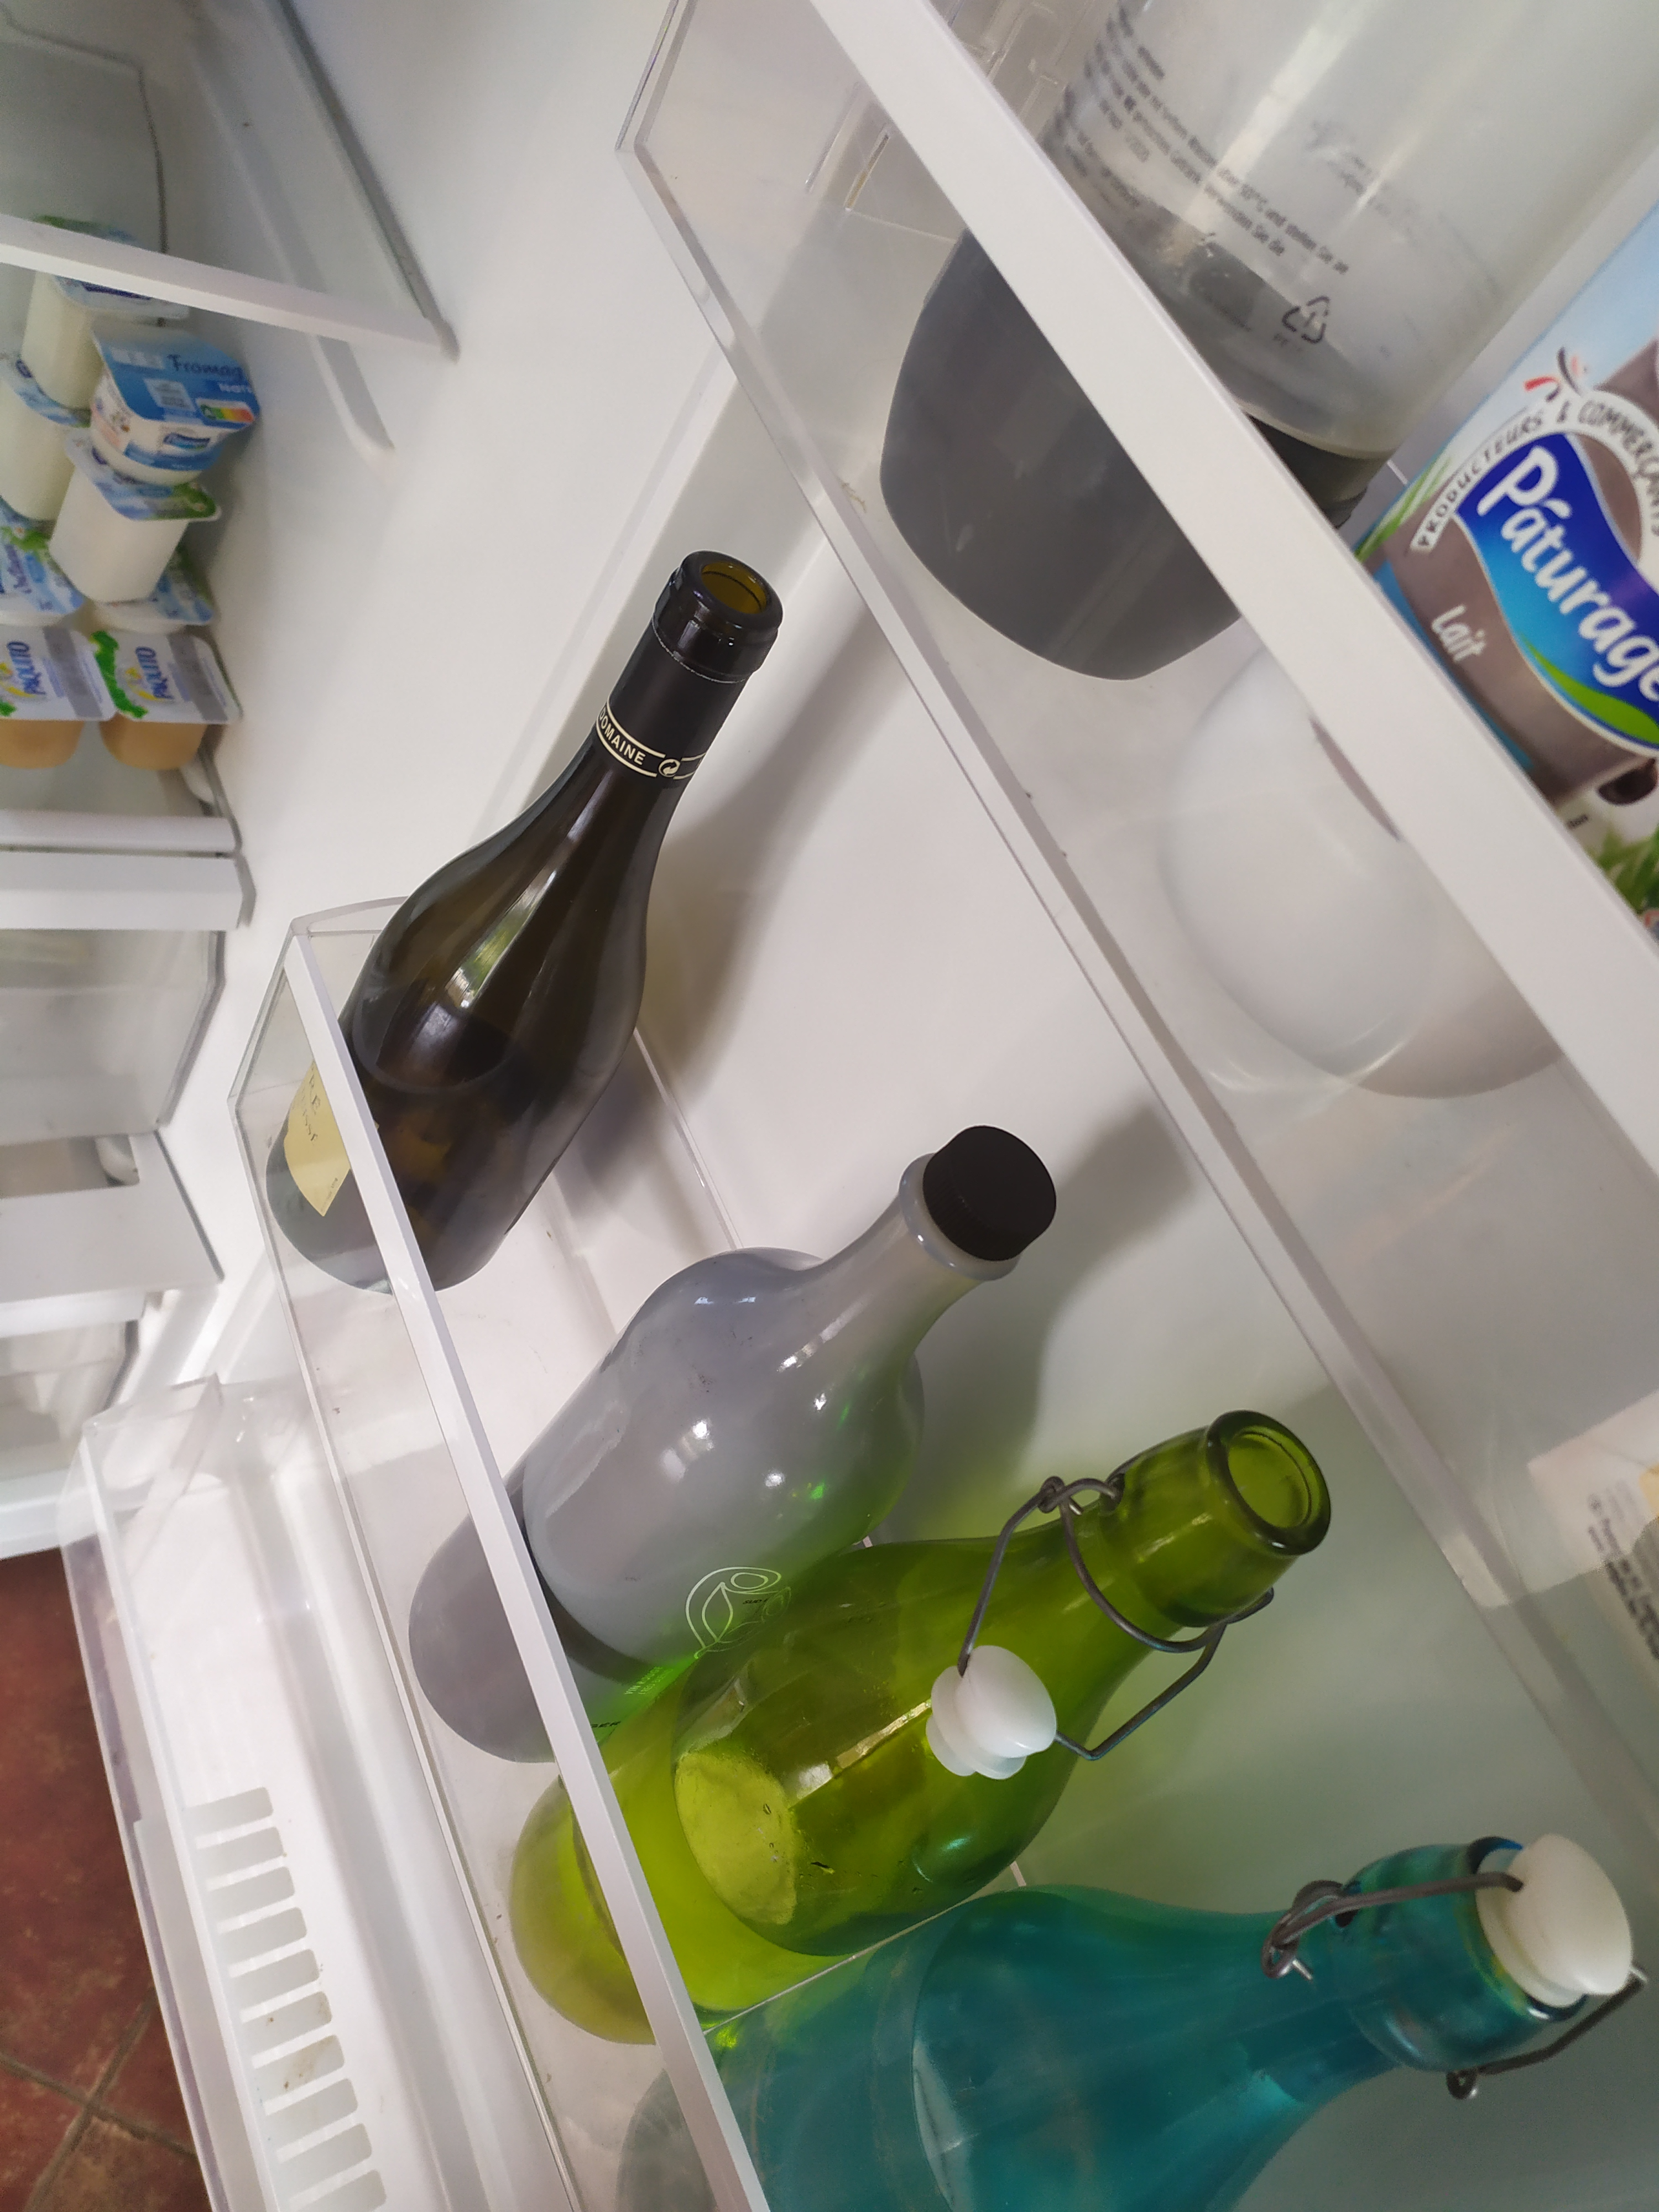bottle: (511, 1402, 1342, 2041), (887, 5, 1659, 672), (406, 1120, 1063, 1761), (254, 542, 786, 1296), (603, 1850, 1635, 2212)
compote: (89, 615, 232, 777), (0, 622, 105, 780)
milk: (1157, 152, 1659, 1113)
yoghurt: (21, 204, 183, 402), (85, 320, 263, 484), (49, 434, 218, 604), (0, 357, 117, 543), (0, 535, 85, 634)
